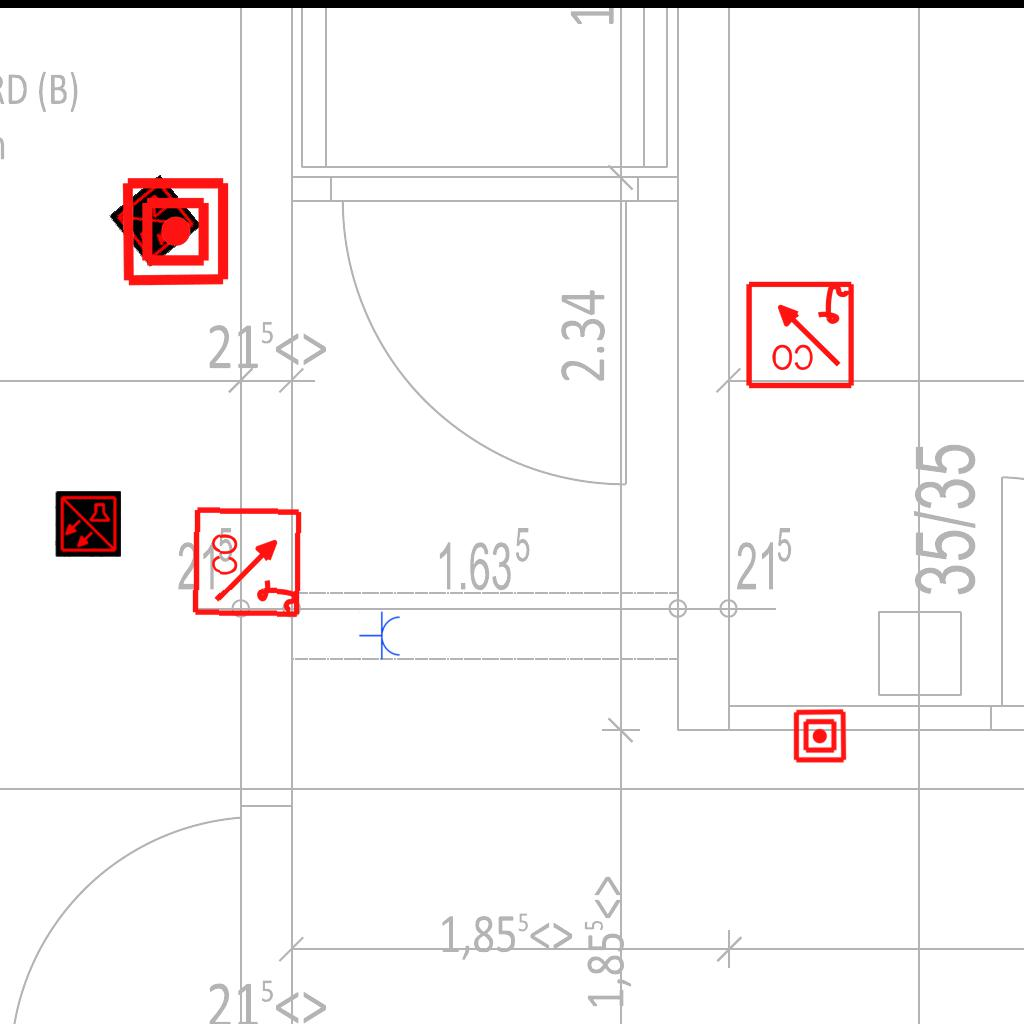NAM-Nichtautomatischer_Melder: (119, 175, 232, 288), (792, 708, 848, 764)
OKW_Multisensormelder_(Kombination_optischer_Rauch-Kahlenmonoxid_Waerme-Melder): (108, 174, 202, 268), (55, 491, 121, 557)
ROA_Rauchmelder_optisch_mit_Signalgeber_(Sockelsirene): (191, 504, 306, 619), (743, 277, 856, 390)
Schukosteckdose_einfach: (359, 611, 402, 661)
